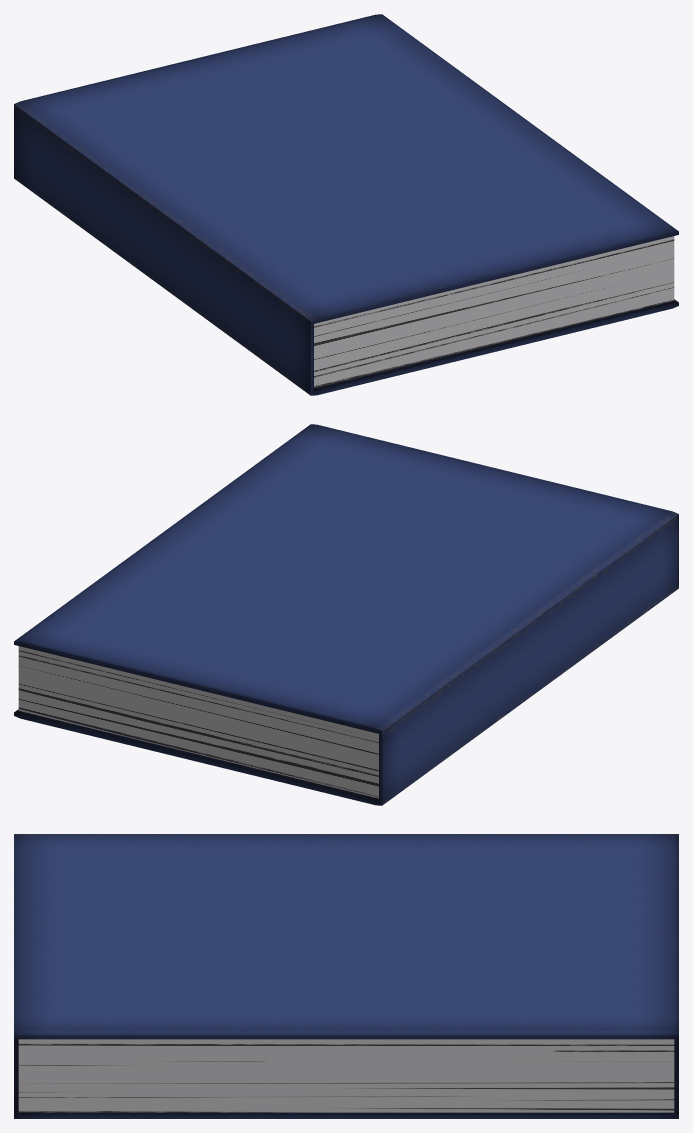
Rendered from books.fbx.
3 views of the same model, one above another, from view 1: azimuth 30°, elevation 25°; view 2: azimuth 150°, elevation 25°; view 3: azimuth 270°, elevation 25° (orthographic). The views are drawn at different scales.
Visible parts, largest first — view 1: Cube.009; view 2: Cube.009; view 3: Cube.009.
Boxes of the visible parts, <box> form: Cube.009: <box>14,14,678,395</box>; Cube.009: <box>14,424,678,805</box>; Cube.009: <box>14,834,678,1118</box>.
Size of the model in its own units: 60.48 by 12.04 by 84.43.
1 material, 1 textured.
